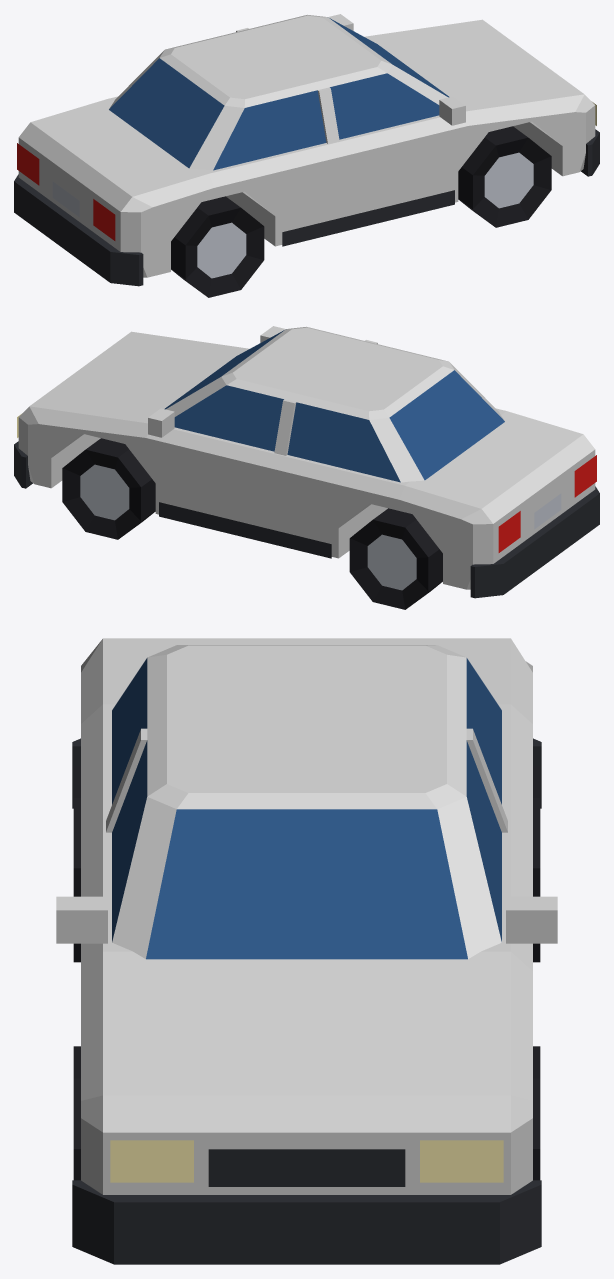
The model's file is sedan.glb.
3 views of the same model, one above another, from view 1: azimuth 30°, elevation 25°; view 2: azimuth 150°, elevation 25°; view 3: azimuth 270°, elevation 25° (orthographic). The views are drawn at different scales.
Visible parts, largest first — view 1: Body; view 2: Body; view 3: Body.
Part boxes in pixels (x1=…): Body: x1=14, y1=14, x2=599, y2=297; Body: x1=14, y1=326, x2=599, y2=609; Body: x1=56, y1=638, x2=557, y2=1264.
Size of the model in its own units: 0.46 by 0.15 by 0.204.
